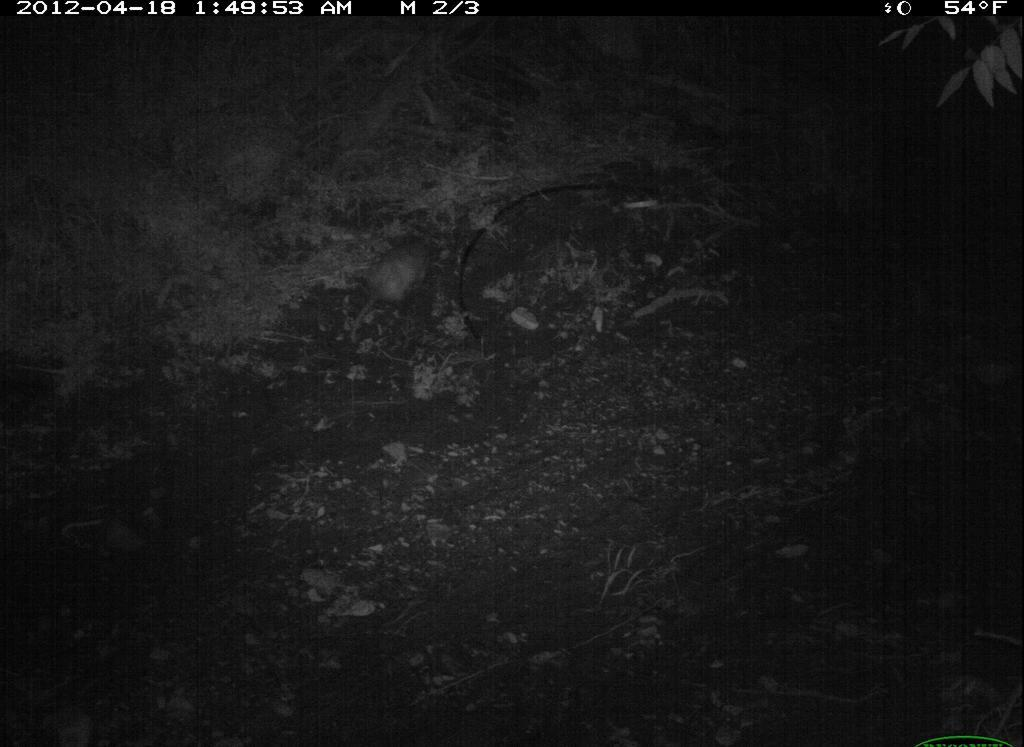opossum: (345, 230, 440, 346)
